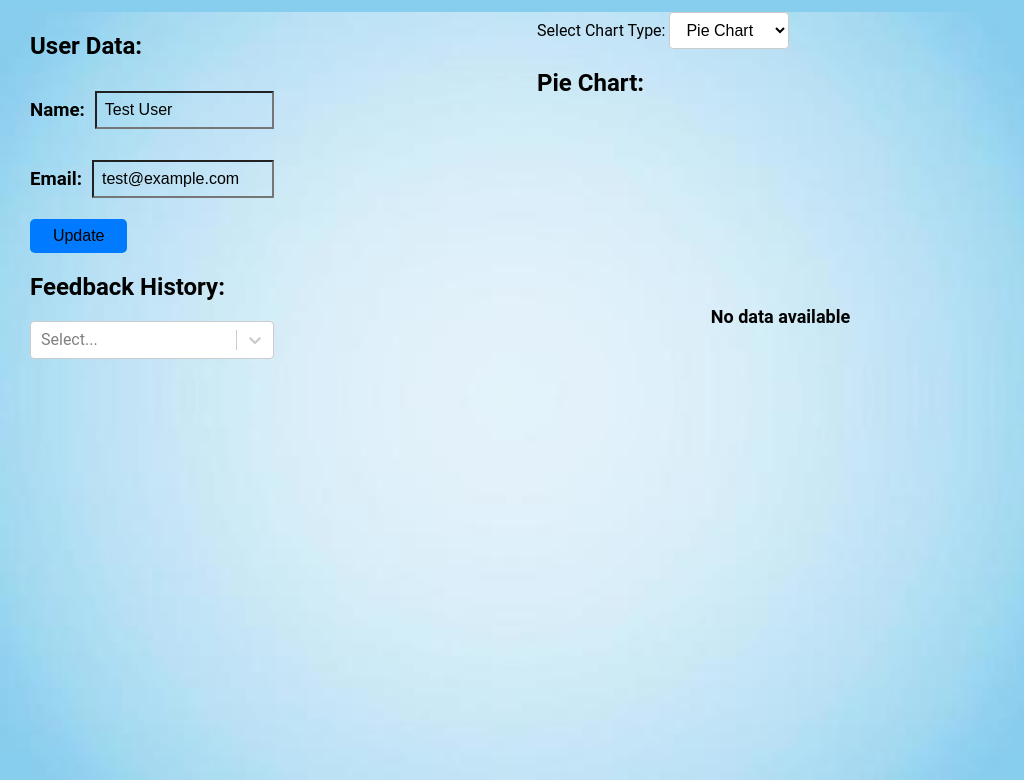
Test: UserProfile Component › should display error message for invalid email format
The width and height of the screenshot is (1024, 780).
Replace the text in the field with placeholder "Enter email" next to "Email:" with "invalid-email" at (183, 179), box [92,160,274,198]
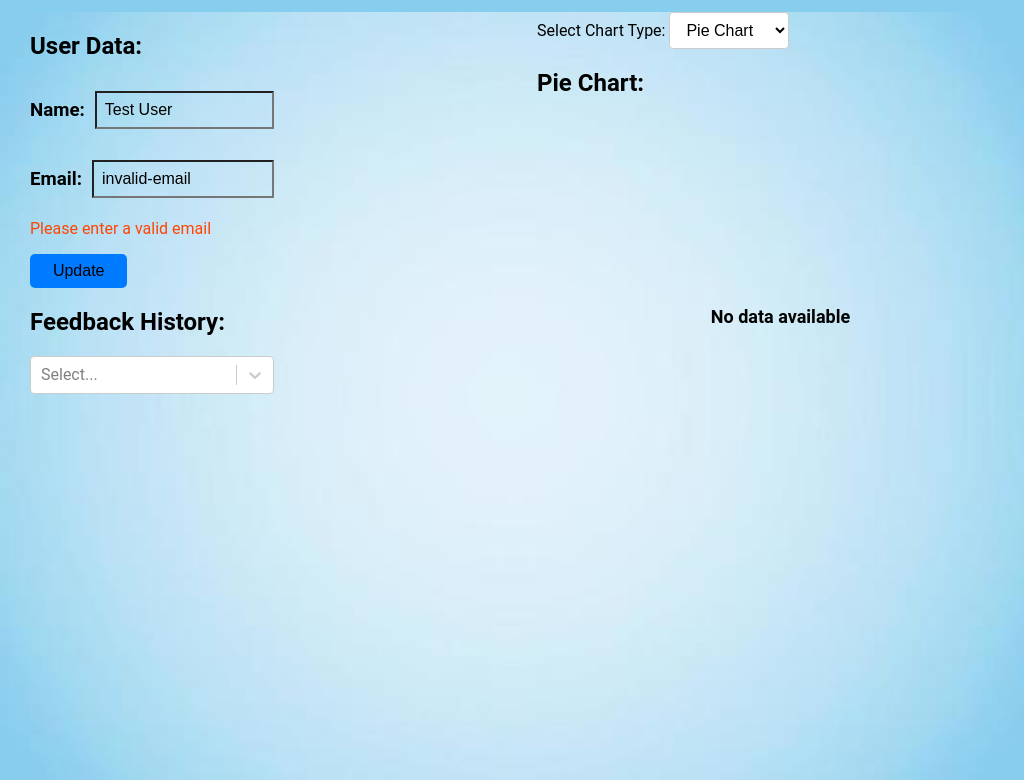
Expected: the text "Please enter a valid email" is shown, [30,219,211,238]
